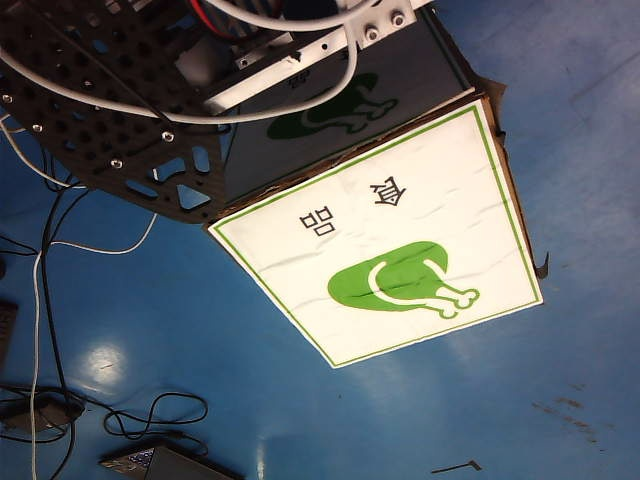Cube_food: (285, 170, 490, 329)
